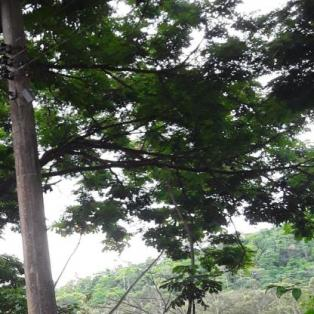Poste: (0, 3, 81, 313)
